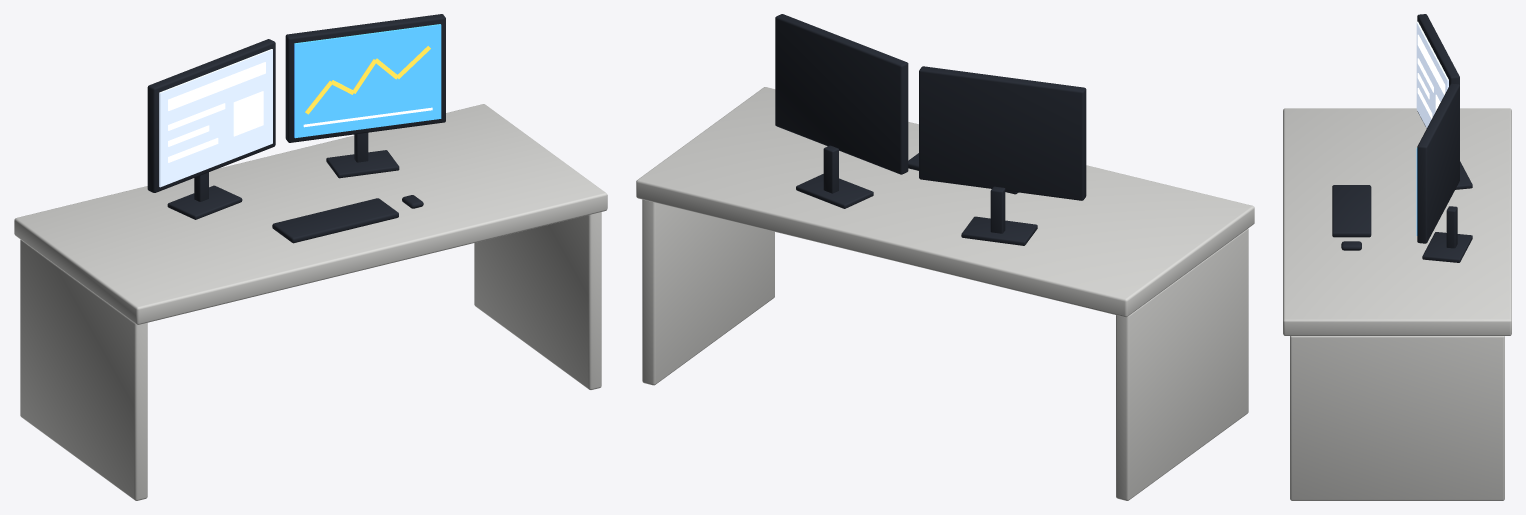
The model's file is station-logs.glb.
3 views of the same model, side by side, from view 1: azimuth 30°, elevation 25°; view 2: azimuth 150°, elevation 25°; view 3: azimuth 270°, elevation 25° (orthographic). The views are drawn at different scales.
Parts seen in each view (by area): view 1: DeskTop.005, PanelLeg.007, PanelLeg.008, Screen.008, Screen.007, MonitorFrame.007, MonitorFrame.006, Keyboard.005, MonitorFoot.007, MonitorFoot.006, UiHeader.005, UiBlock.005; view 2: DeskTop.005, PanelLeg.007, MonitorFrame.006, PanelLeg.008, MonitorFrame.007, MonitorFoot.006, MonitorFoot.007, MonitorNeck.006, MonitorNeck.007; view 3: DeskTop.005, PanelLeg.008, MonitorFrame.007, Keyboard.005, Screen.007, MonitorFoot.007, MonitorFrame.006, MonitorNeck.007, UiHeader.005.
Boxes of the visible parts, x1,y1,x2,y2 form: DeskTop.005: (14, 104, 607, 324); PanelLeg.007: (20, 239, 147, 500); PanelLeg.008: (474, 212, 601, 389); Screen.008: (294, 24, 441, 138); Screen.007: (159, 49, 272, 187); MonitorFrame.007: (285, 14, 445, 142); MonitorFrame.006: (147, 39, 275, 192); Keyboard.005: (272, 198, 398, 243); MonitorFoot.007: (326, 150, 399, 178); MonitorFoot.006: (167, 185, 242, 219); UiHeader.005: (168, 62, 265, 110); UiBlock.005: (233, 91, 263, 136); DeskTop.005: (636, 87, 1254, 317); PanelLeg.007: (1116, 228, 1248, 500); MonitorFrame.006: (919, 66, 1086, 200); PanelLeg.008: (642, 199, 774, 385); MonitorFrame.007: (775, 14, 908, 174); MonitorFoot.006: (961, 216, 1037, 245); MonitorFoot.007: (796, 174, 873, 208); MonitorNeck.006: (990, 186, 1005, 233); MonitorNeck.007: (823, 145, 838, 193); DeskTop.005: (1283, 108, 1511, 335); PanelLeg.008: (1290, 336, 1504, 500); MonitorFrame.007: (1417, 83, 1459, 243); Keyboard.005: (1332, 185, 1371, 237); Screen.007: (1416, 21, 1448, 127); MonitorFoot.007: (1422, 232, 1472, 262); MonitorFrame.006: (1417, 14, 1459, 128); MonitorNeck.007: (1446, 206, 1457, 248); UiHeader.005: (1417, 34, 1445, 94).
Bounding box in the file's own units: 2.2 × 1.52 × 1.
